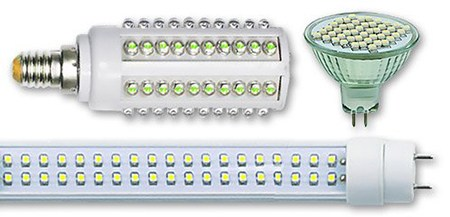Light_bulb: (1, 134, 438, 211), (6, 16, 295, 129), (302, 8, 425, 131)
